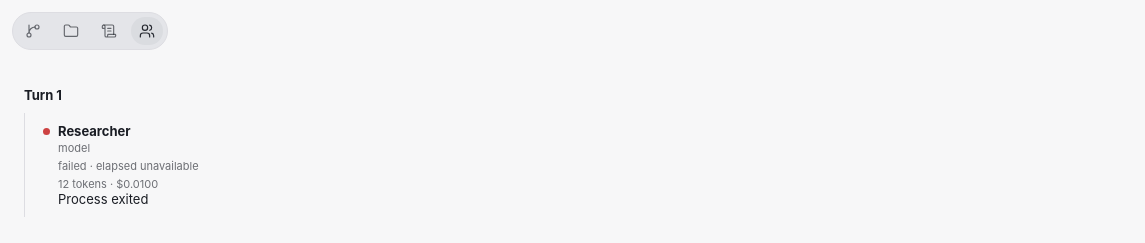
Test: Agents panel › retries a failed read without starting an agent
Click the button "Researcher". click: {"x": 94, "y": 131}
box: left=37, top=113, right=1128, bottom=217
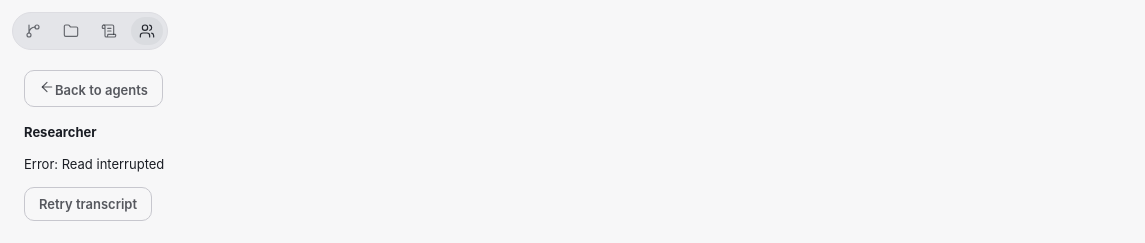
Result: the message reads "Error: Read interrupted" at left=24, top=156, right=164, bottom=172
Click the button "Retry transcript". click: {"x": 88, "y": 204}
box: left=24, top=187, right=152, bottom=221
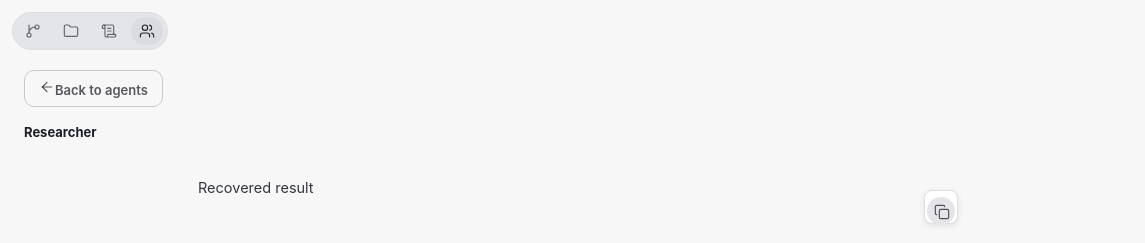
Result: the text "Recovered result" is shown at left=198, top=179, right=314, bottom=196
